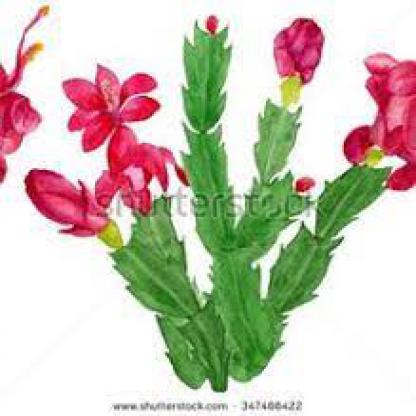Aglonema: (29, 70, 416, 245)
